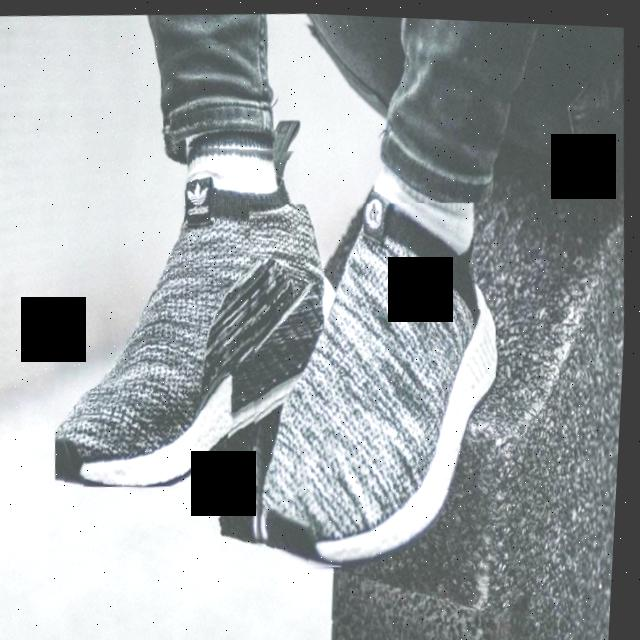shoe: (42, 126, 339, 496), (237, 190, 517, 576)
